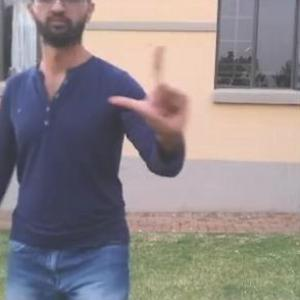land_hand: (99, 39, 192, 146)
